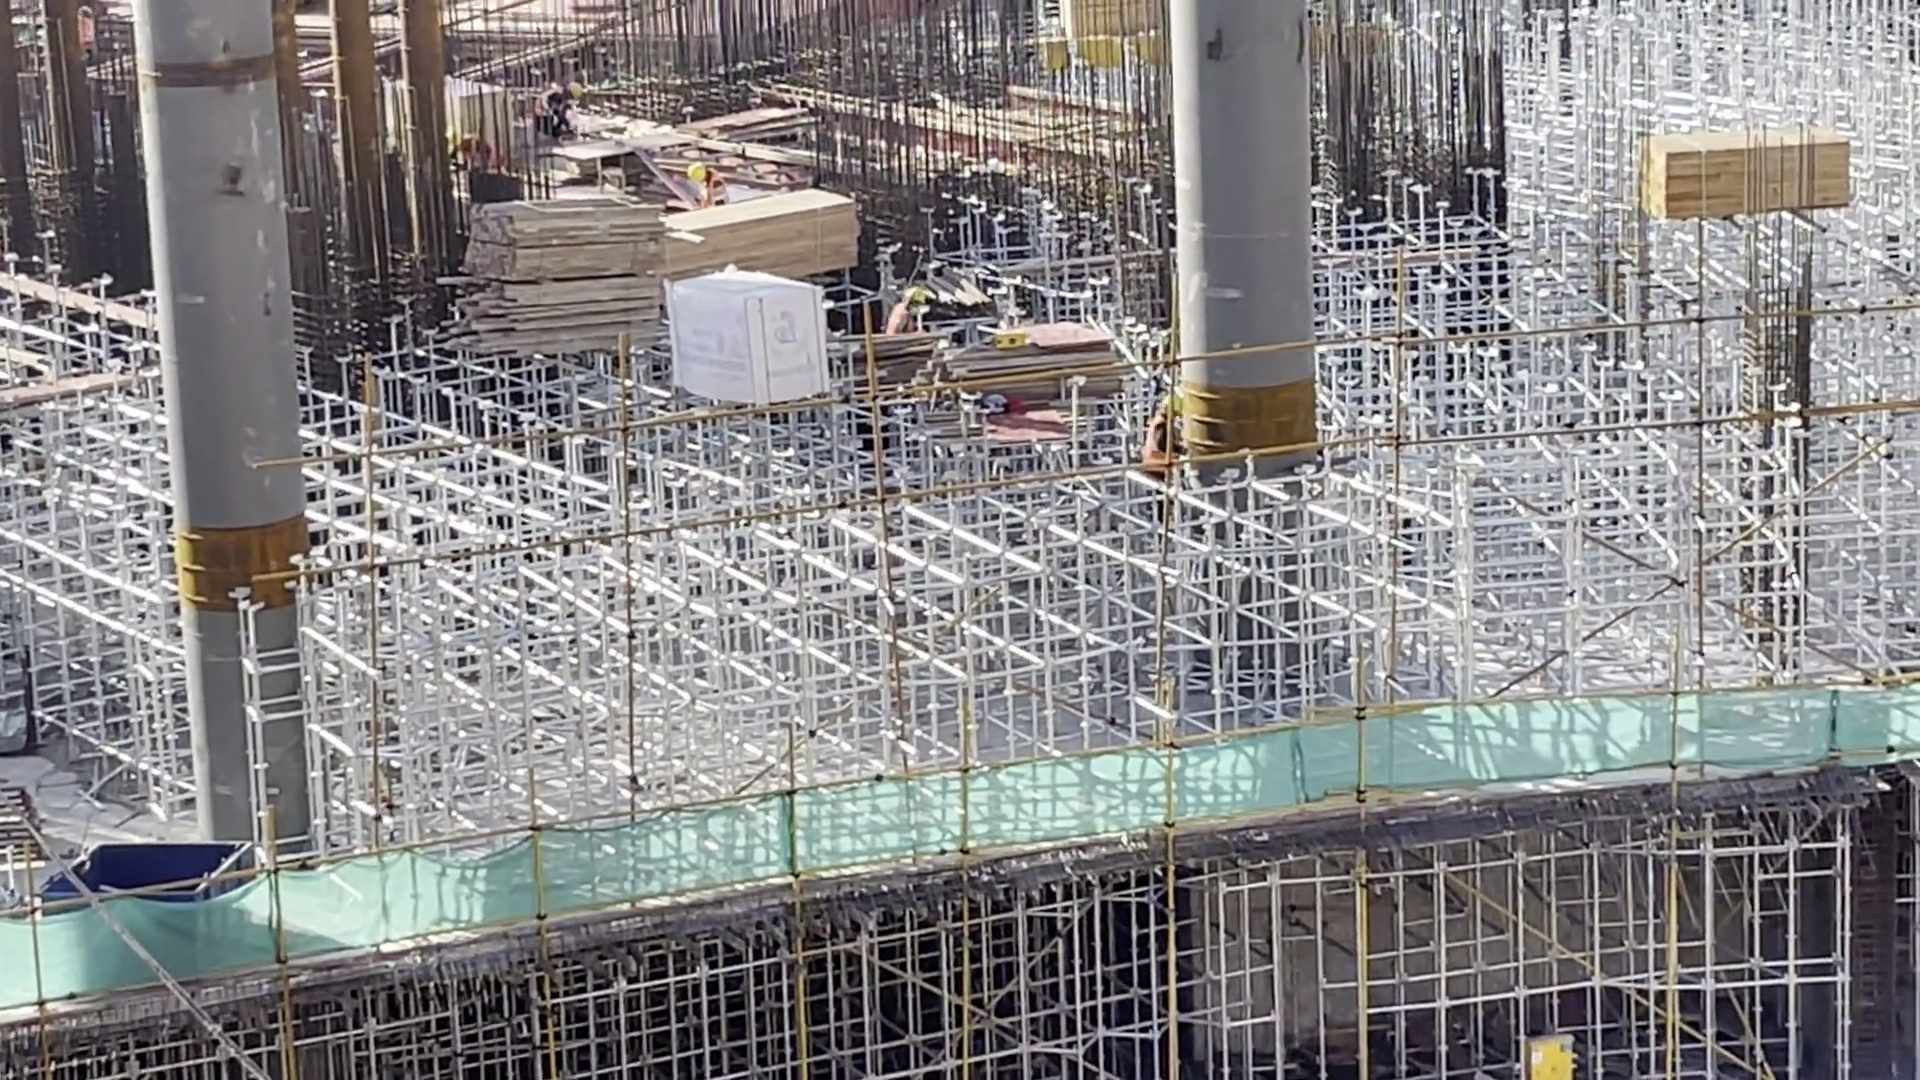board: (938, 316, 1134, 404)
ebox: (1529, 1038, 1587, 1079)
helmet: (902, 286, 929, 302), (1160, 392, 1182, 411), (688, 164, 707, 182), (568, 82, 583, 98)
hopper: (44, 839, 263, 883)
person: (1143, 393, 1191, 473), (534, 82, 584, 141), (890, 281, 928, 331), (687, 163, 731, 207)
vest: (1145, 418, 1180, 468), (891, 304, 915, 329)
wood: (434, 193, 669, 356), (1633, 126, 1852, 226), (671, 190, 866, 276)
